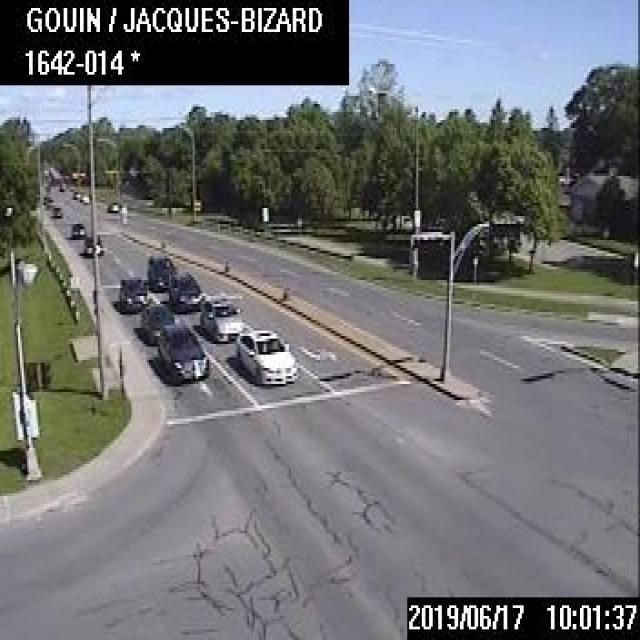vehicle: (235, 328, 297, 384), (155, 323, 208, 379), (198, 297, 242, 340), (167, 270, 204, 311), (138, 303, 173, 342), (116, 274, 148, 312), (146, 252, 176, 289), (82, 232, 102, 255), (70, 220, 83, 236), (50, 204, 61, 217), (106, 200, 118, 210), (78, 193, 88, 202), (71, 189, 81, 197)
